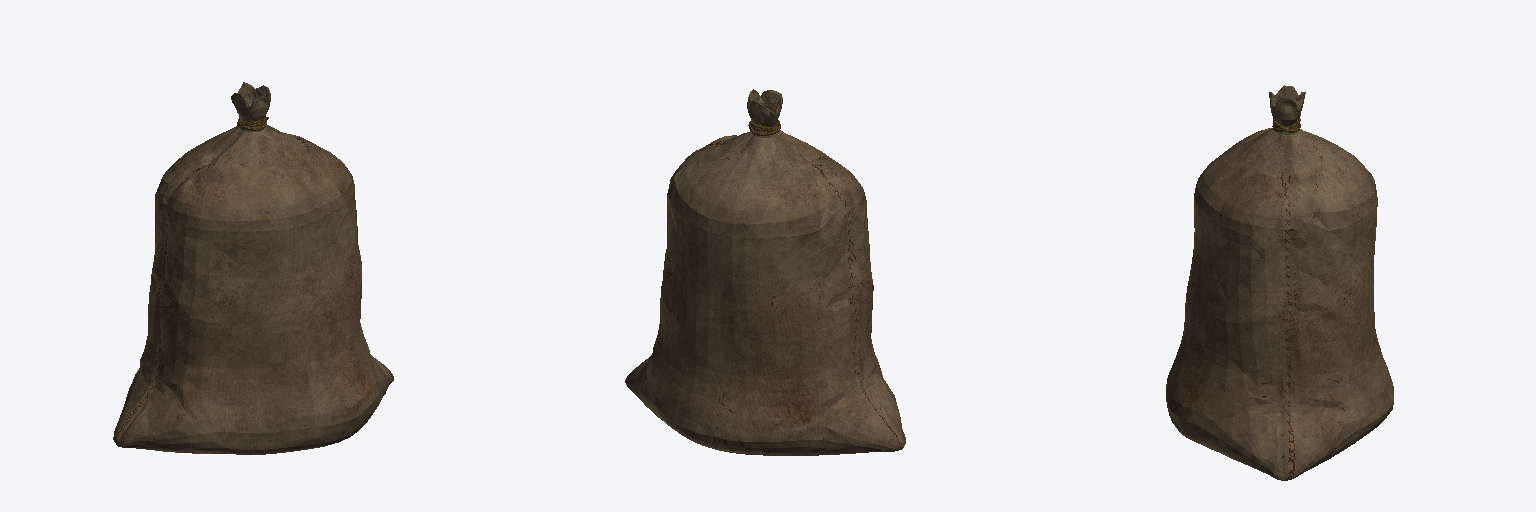
3 renders of one model, left to right at view 1: azimuth 30°, elevation 25°; view 2: azimuth 150°, elevation 25°; view 3: azimuth 270°, elevation 25°, orthographic.
Visible parts, largest first — view 1: obj1; view 2: obj1; view 3: obj1.
Part boxes in pixels (bbox=[...]): obj1: bbox=[113, 82, 393, 454]; obj1: bbox=[625, 89, 905, 455]; obj1: bbox=[1166, 85, 1393, 480].
Size of the model in its own units: 0.445 by 0.5082 by 0.3198.
Materials: 1 (1 with a texture image).